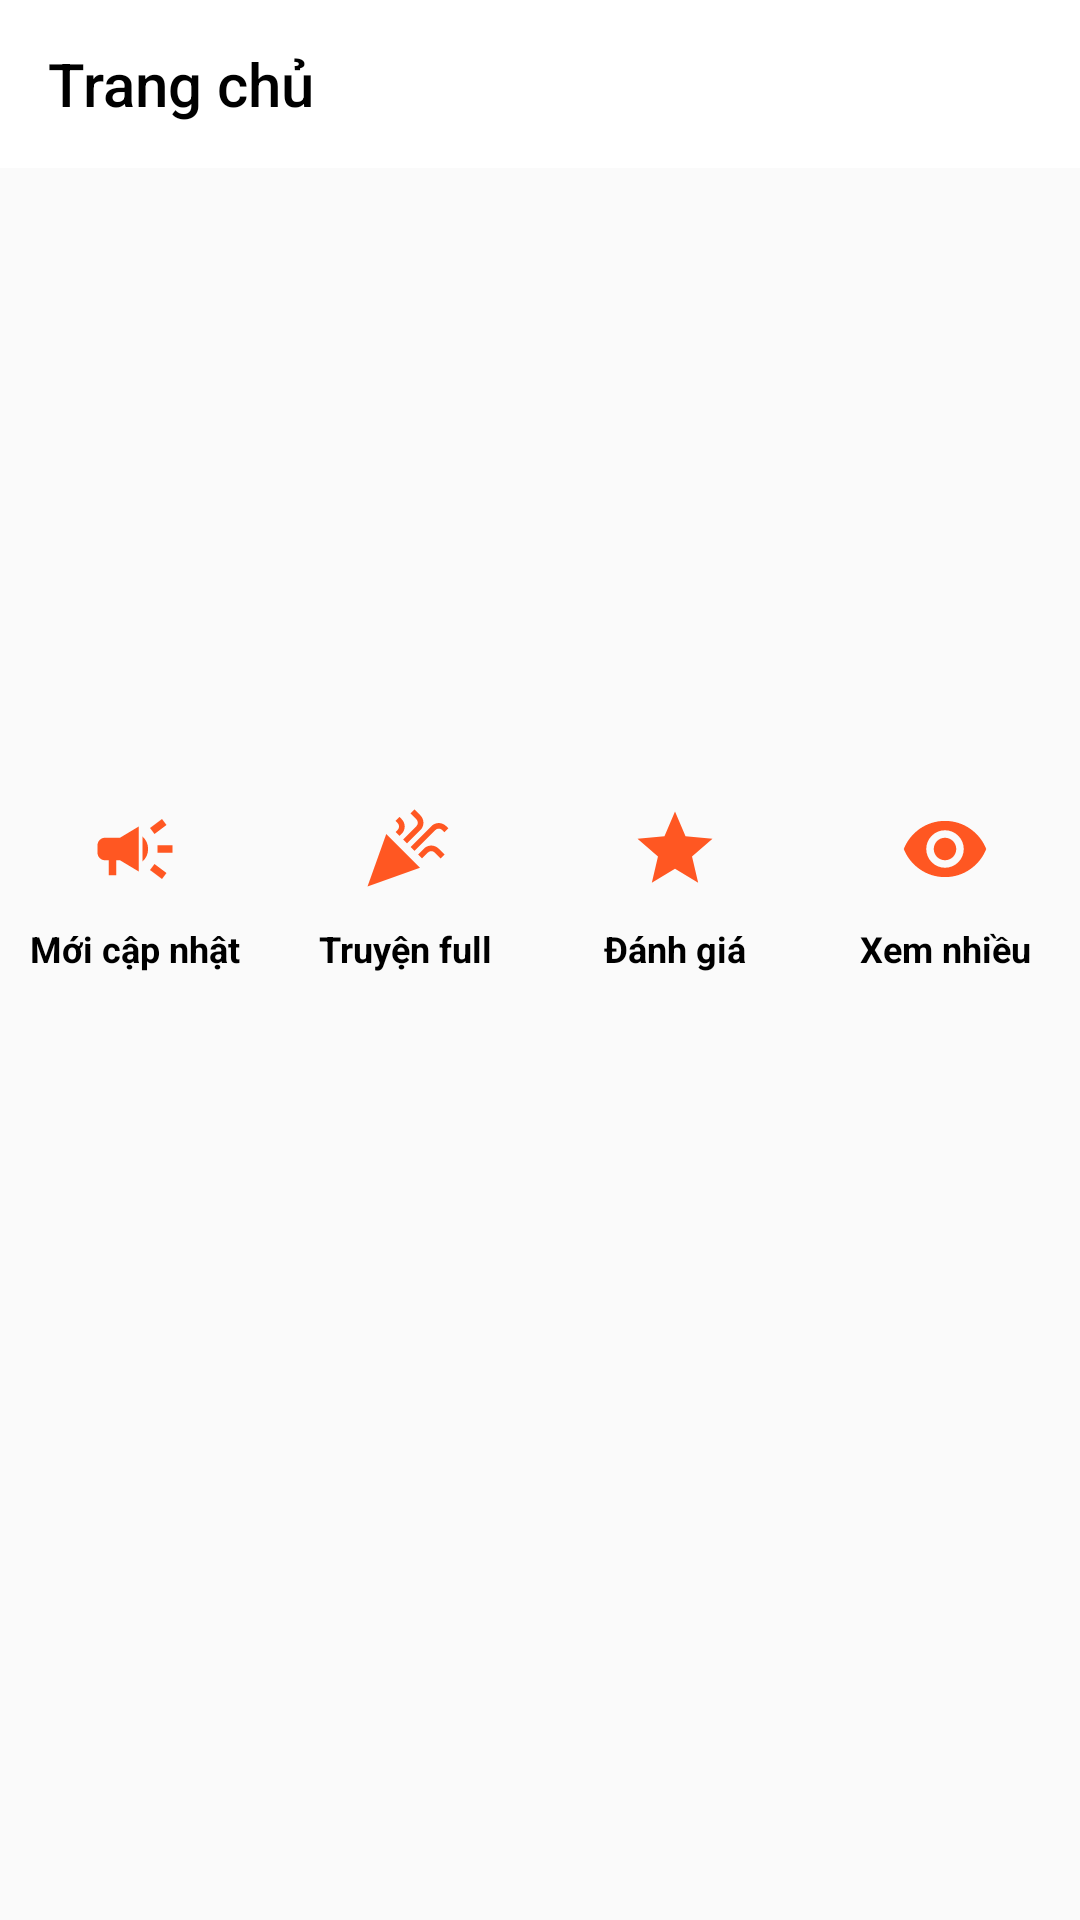

Named icons in this screenshot (1080x1920) and their bounding boxes, bbox=(x1, y1, x2, y2):
campaign: bbox=(97, 819, 173, 879)
celebration: bbox=(367, 809, 449, 887)
star: bbox=(638, 812, 712, 883)
